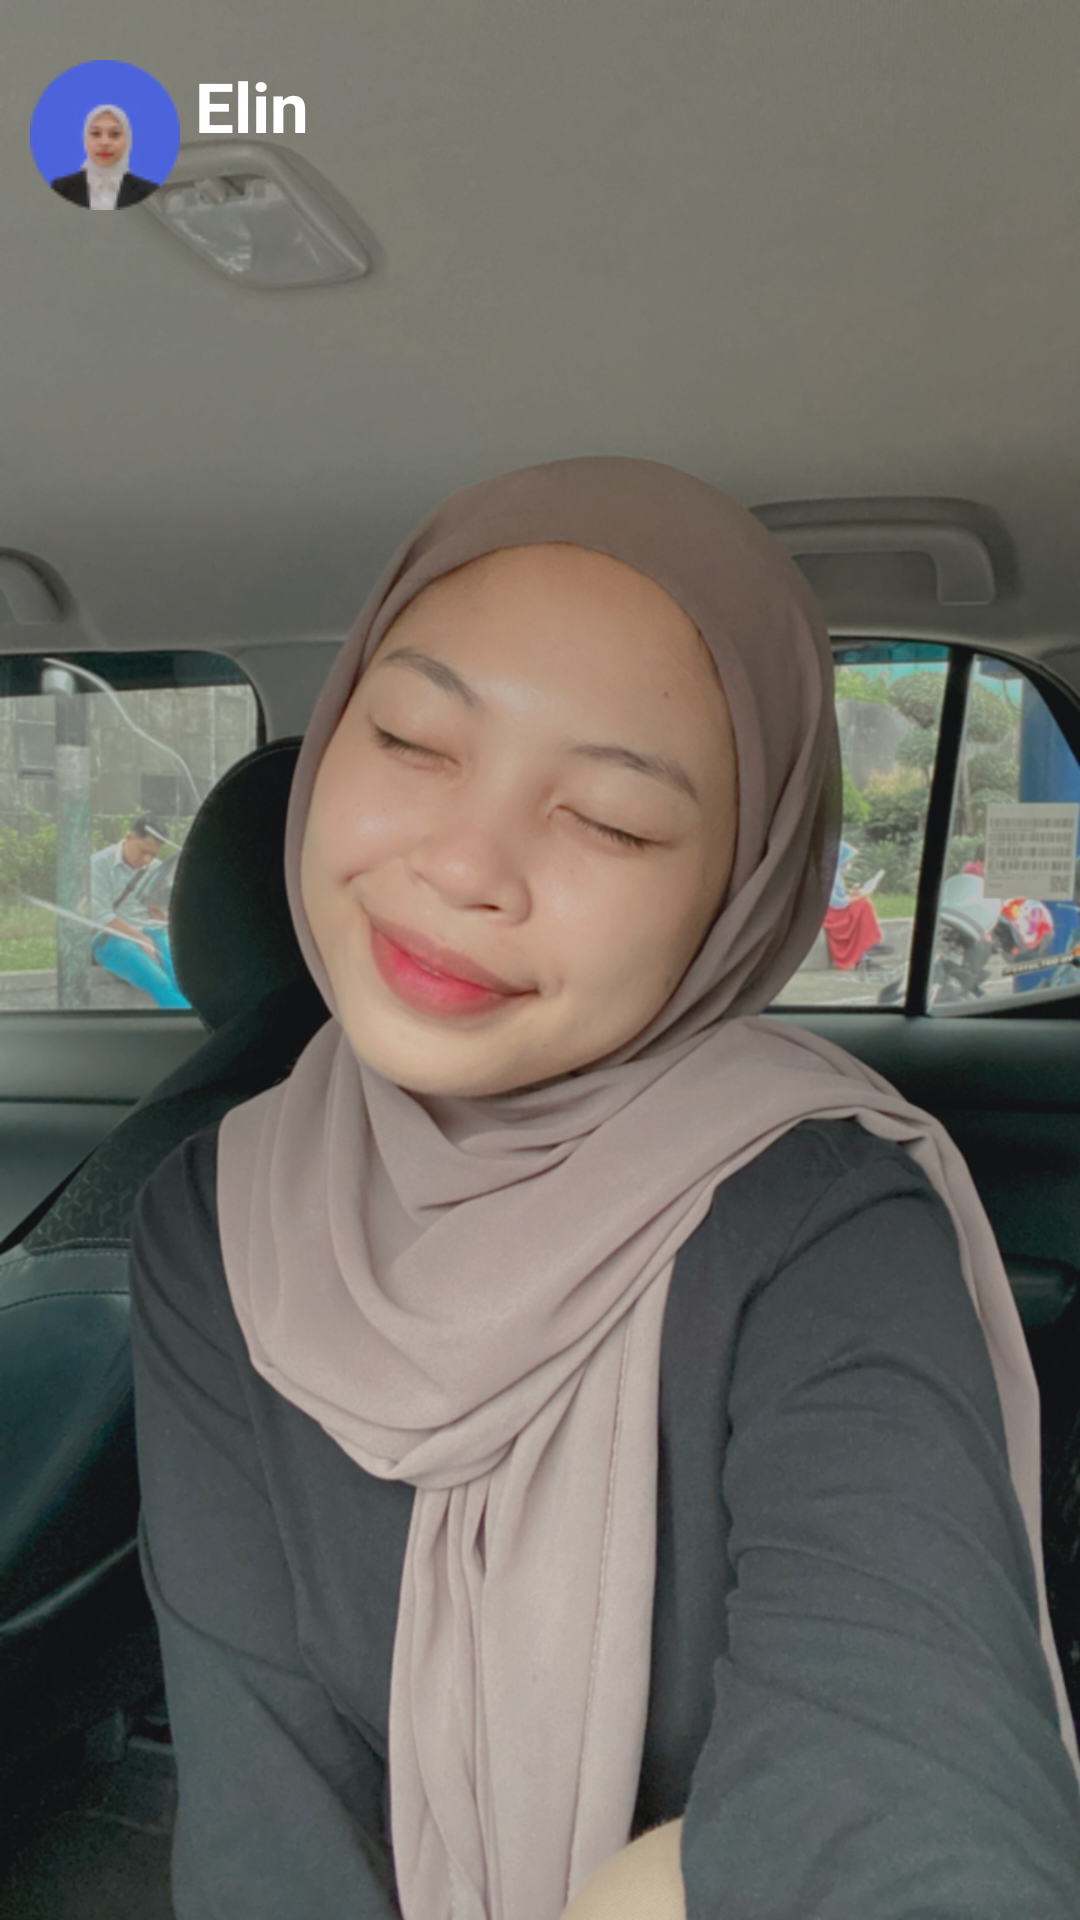

Icon click points for this 1080px×1920px phone screenshot, format point (x, y):
chatprofil: point (105, 135)
